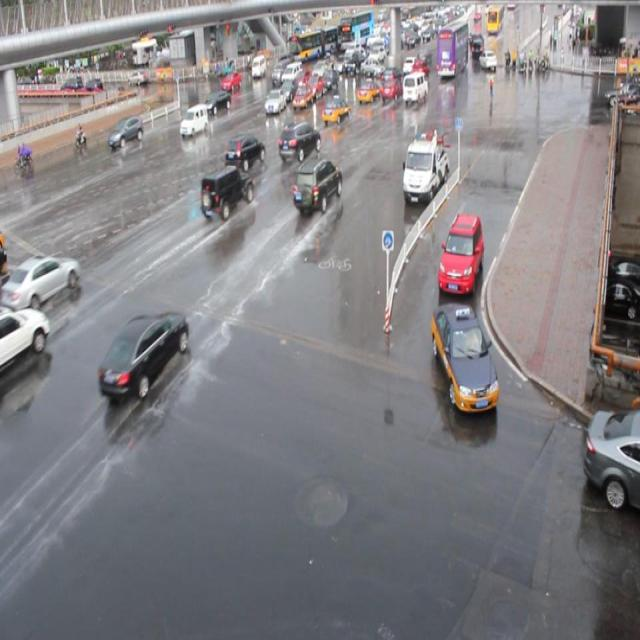bus: (401, 133, 447, 202)
car: (96, 310, 188, 400), (430, 301, 498, 411), (582, 407, 640, 512), (10, 255, 80, 310), (437, 212, 483, 293), (200, 165, 253, 221), (292, 156, 342, 214), (1, 307, 50, 366), (277, 120, 320, 161), (223, 133, 265, 172), (108, 116, 144, 148), (320, 94, 350, 124), (202, 90, 231, 114), (356, 78, 381, 102), (379, 77, 403, 100), (264, 90, 286, 114), (292, 84, 312, 110), (220, 70, 242, 90), (306, 74, 324, 98), (279, 78, 297, 101), (293, 69, 310, 91)
truck: (179, 102, 208, 136), (402, 72, 428, 104)
